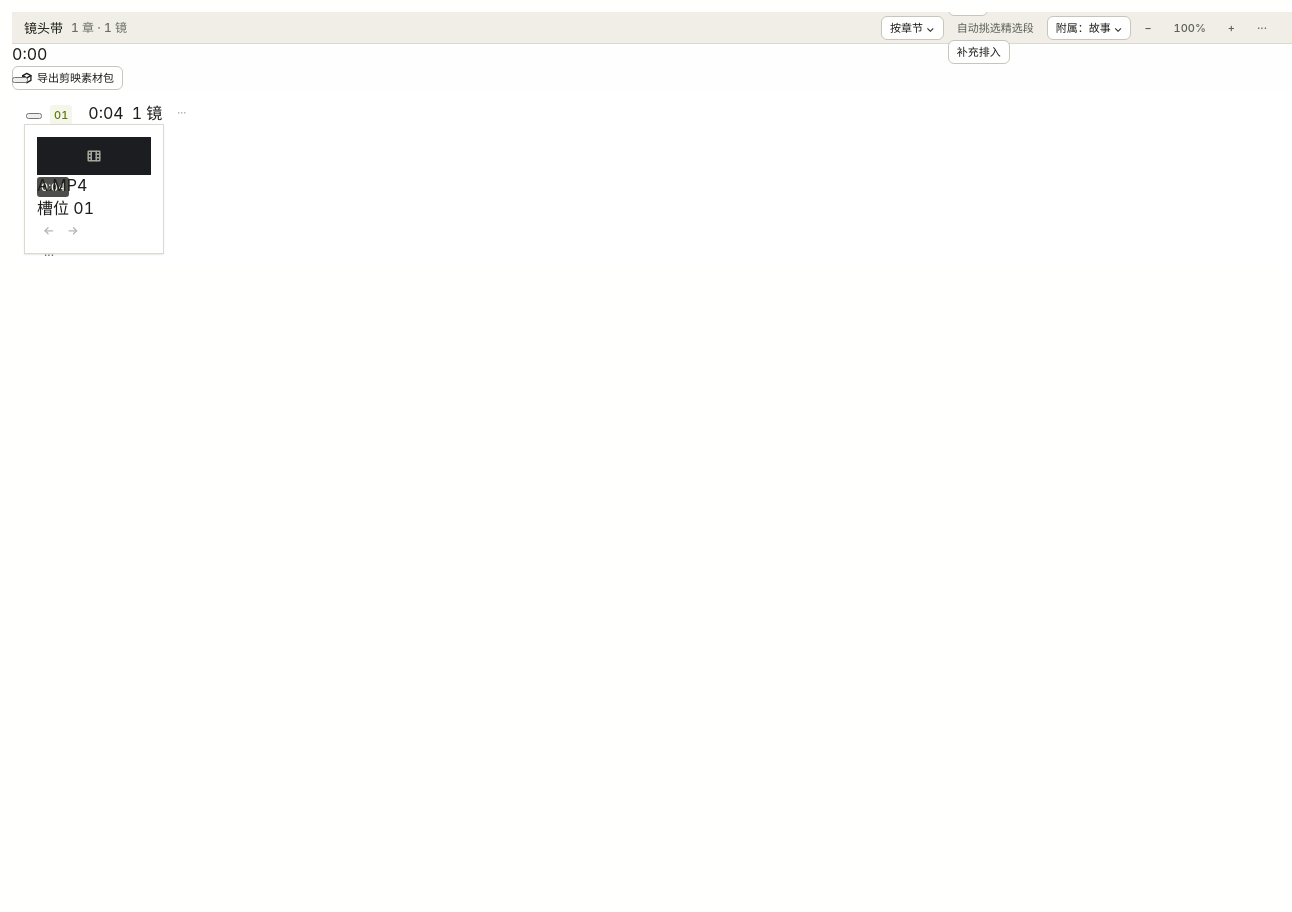
Test: R11 §1.2:镜头带工具条「自动挑选精选段」 › 按钮在工具条上;面板只有范围 chips + 一个预算数字 + 「开始挑选」,缺省已预填,直接按就行
Expected: the cell named "镜头 1：A.MP4" is shown, [24,124,164,254]
Click the button "自动挑选精选段".
click(995, 28)  # box [948,16,1043,40]
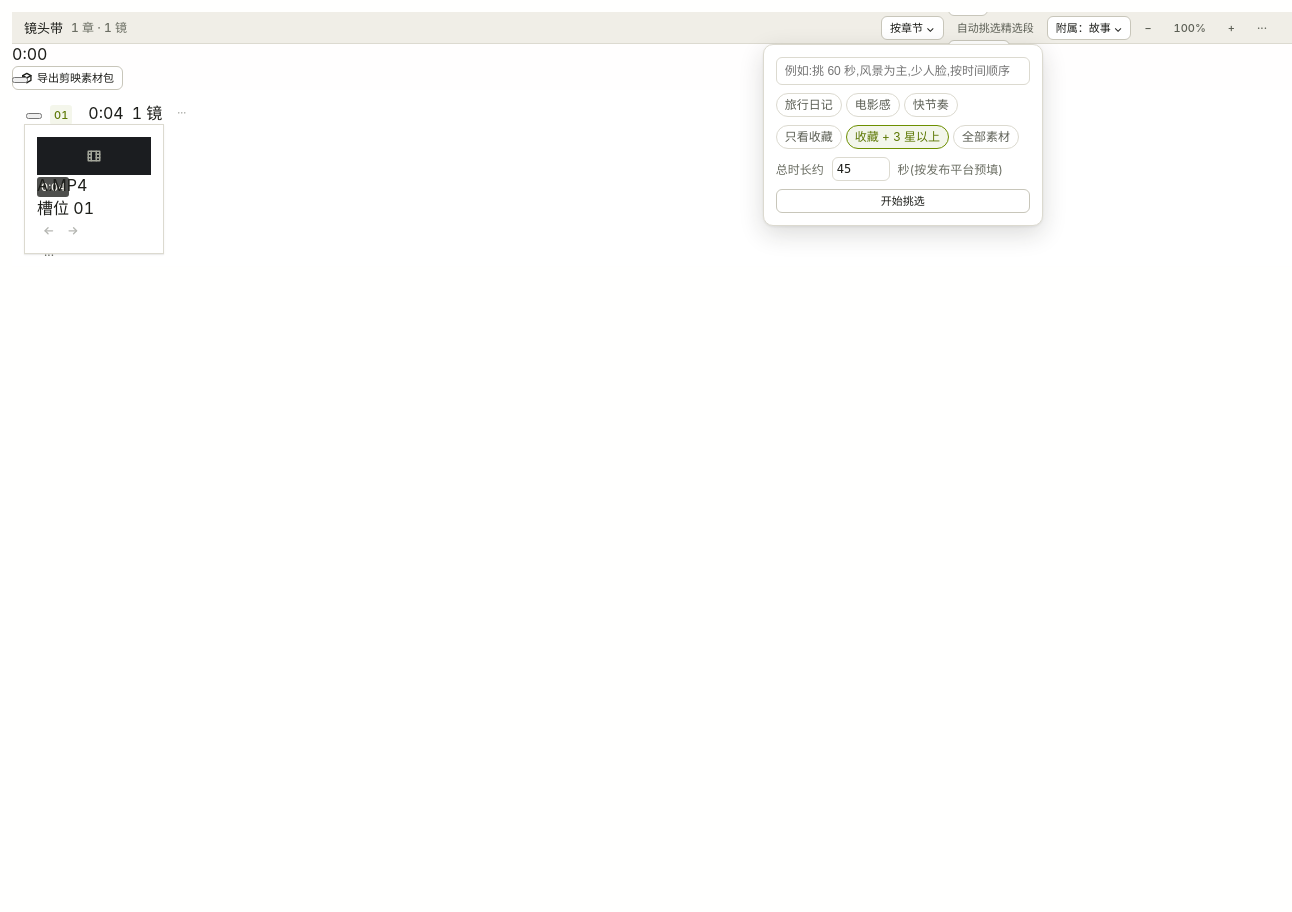
Now the buttons read "只看收藏", "收藏 + 3 星以上", "全部素材", in this order, box [776,124,842,148]; [846,124,949,148]; [953,124,1019,148]
Now the number field labelled "总时长约 秒(按发布平台预填)" holds "45", box [832,156,890,180]
Now the buttons read "旅行日记", "电影感", "快节奏", in this order, box [776,92,842,116]; [846,92,900,116]; [904,92,958,116]
Click the button "开始挑选".
click(903, 200)  # box [776,188,1030,212]
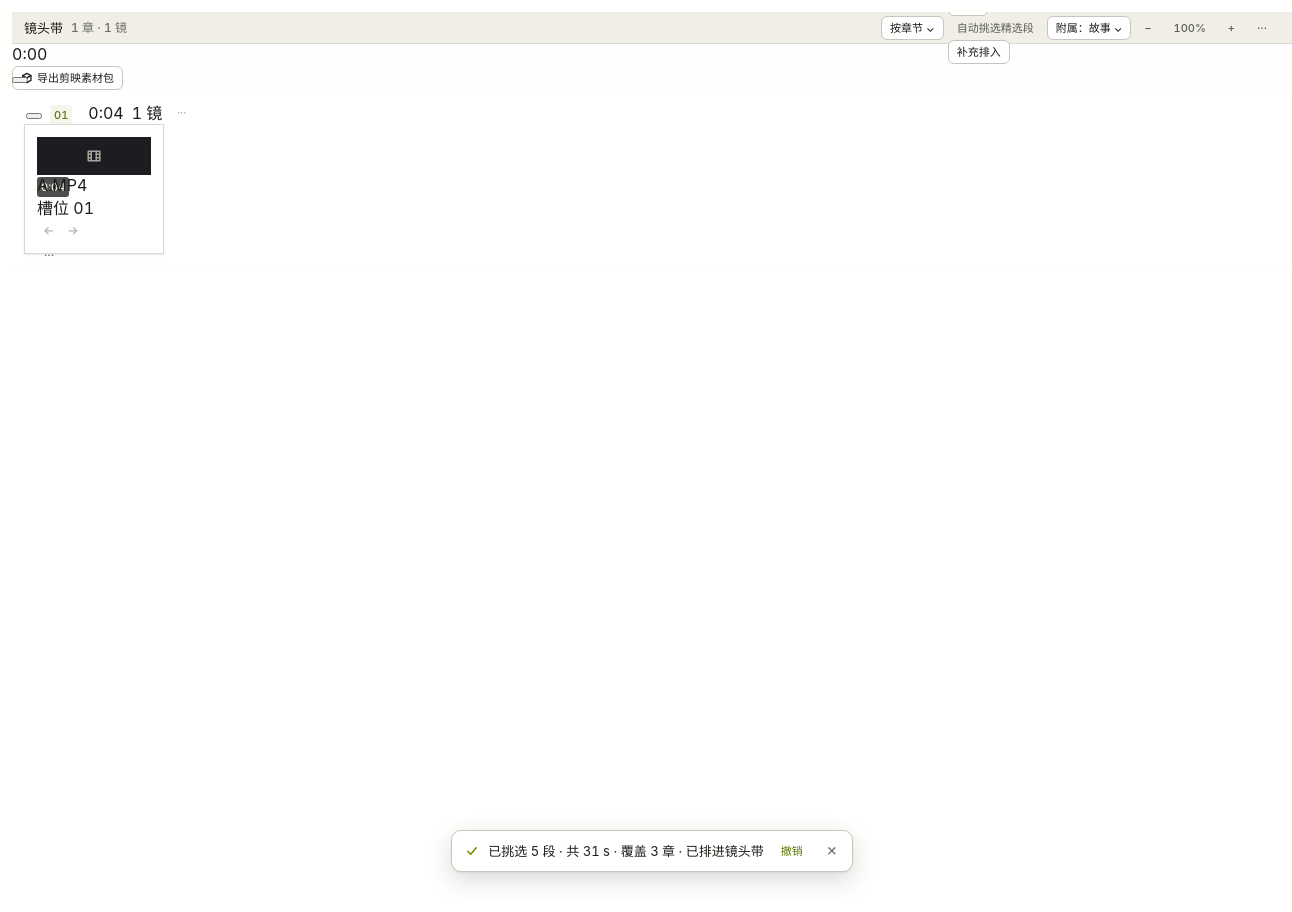
Now the message shows "已挑选 5 段 · 共 31 s · 覆盖 3 章", box [488,843,764,859]
Now the message shows "已排进镜头带", box [488,843,764,859]
Now the text "旅行日记 电影感 快节奏 只看收藏 收藏 + 3 星以上 全部素材 总时长约 秒(按发布平台预填) 开始挑选" is gone
Click the button "撤销".
click(792, 851)  # box [772,839,812,863]
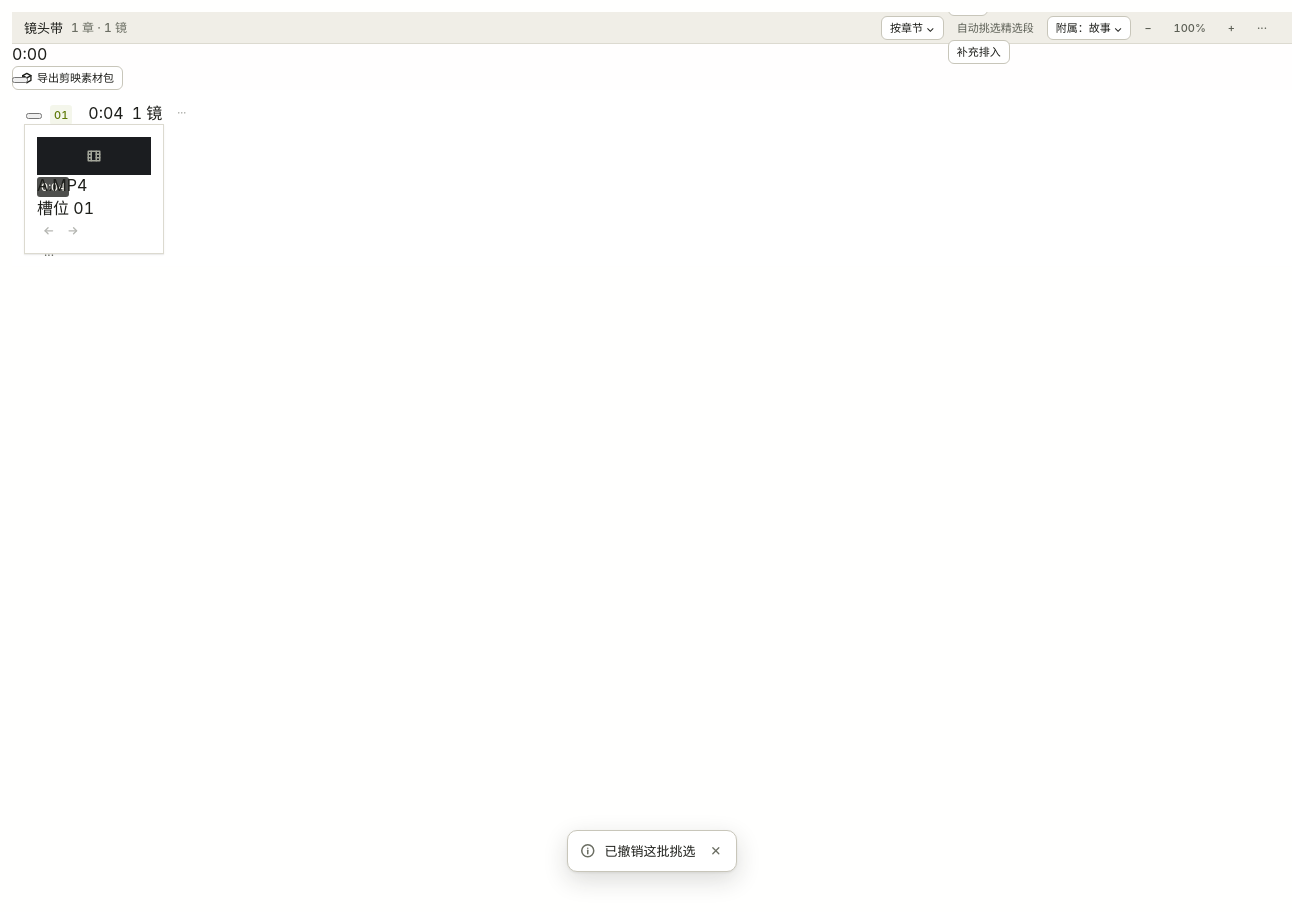
Now the message reads "已撤销这批挑选", box [604,843,696,859]
